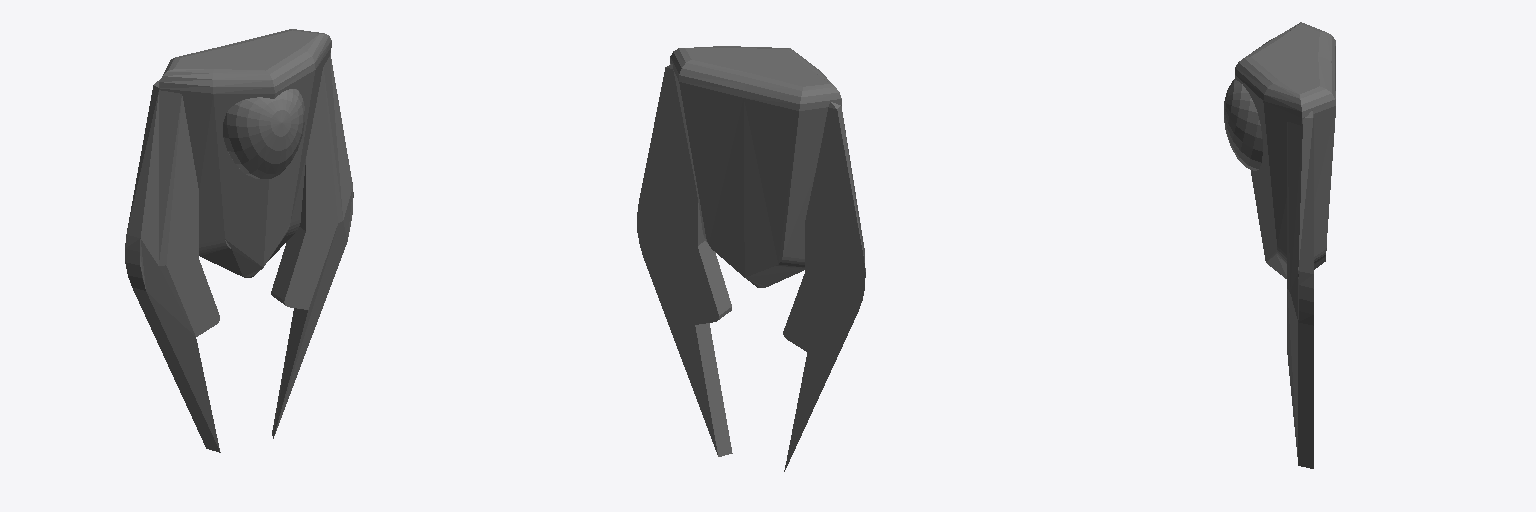
Rendered from Pod_PlaceHolder.obj.
3 views of the same model, side by side, from view 1: azimuth 30°, elevation 25°; view 2: azimuth 150°, elevation 25°; view 3: azimuth 270°, elevation 25° (orthographic).
Parts seen in each view (by area): view 1: Default; view 2: Default; view 3: Default.
Boxes of the visible parts, x1,y1,x2,y2 form: Default: [125, 29, 353, 452]; Default: [637, 46, 865, 471]; Default: [1224, 22, 1335, 468].
Size of the model in its own units: 192 by 316 by 82.01.